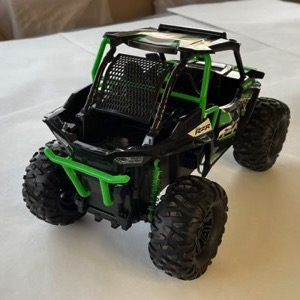polaris: (21, 23, 293, 283)
